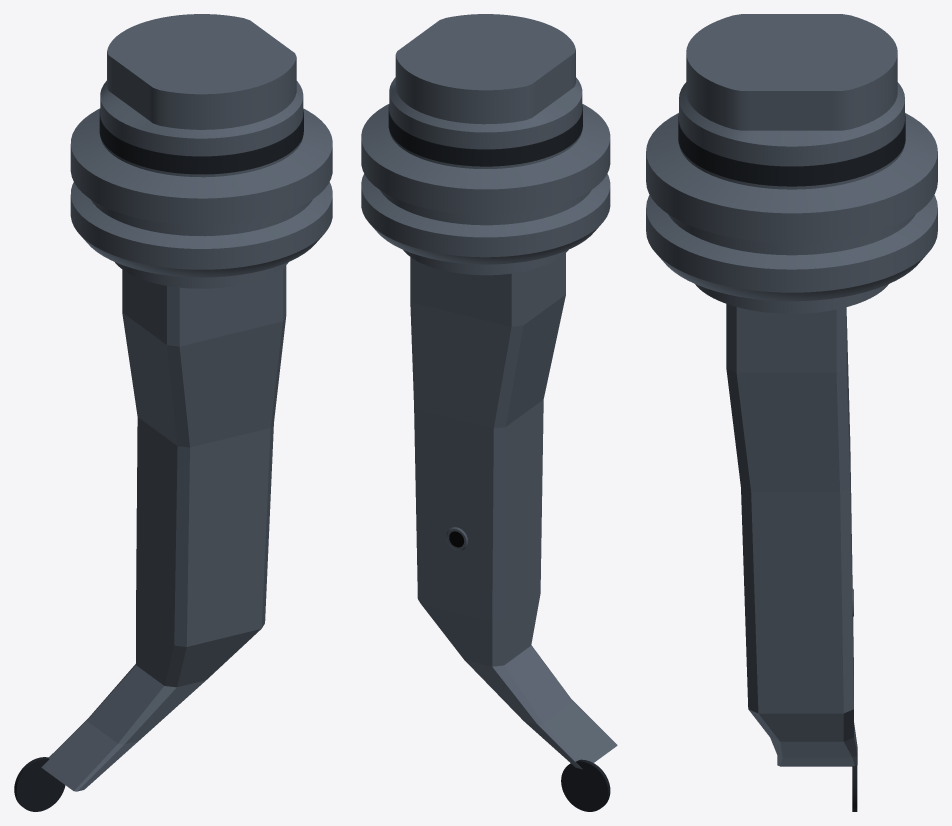
Rendered from wheel_cranked_20.obj.
3 renders of one model, left to right at view 1: azimuth 30°, elevation 25°; view 2: azimuth 150°, elevation 25°; view 3: azimuth 270°, elevation 25°, orthographic. The views are drawn at different scales.
Parts seen in each view (by area): view 1: wheel_cranked_20_faceted_blade.002, wheel_cranked_20_stepped_coupling.002, wheel_cranked_20_locking_collar.002, wheel_cranked_20_seat.005; view 2: wheel_cranked_20_faceted_blade.002, wheel_cranked_20_stepped_coupling.002, wheel_cranked_20_locking_collar.002, wheel_cranked_20_seat.005; view 3: wheel_cranked_20_stepped_coupling.002, wheel_cranked_20_faceted_blade.002, wheel_cranked_20_locking_collar.002.
Boxes of the visible parts, x1,y1,x2,y2 form: wheel_cranked_20_faceted_blade.002: (41, 265, 286, 791); wheel_cranked_20_stepped_coupling.002: (70, 14, 332, 288); wheel_cranked_20_locking_collar.002: (99, 109, 303, 174); wheel_cranked_20_seat.005: (14, 757, 65, 811); wheel_cranked_20_faceted_blade.002: (410, 253, 617, 769); wheel_cranked_20_stepped_coupling.002: (361, 14, 610, 275); wheel_cranked_20_locking_collar.002: (388, 105, 582, 166); wheel_cranked_20_seat.005: (561, 759, 610, 811); wheel_cranked_20_stepped_coupling.002: (646, 14, 937, 313); wheel_cranked_20_faceted_blade.002: (726, 304, 857, 766); wheel_cranked_20_locking_collar.002: (678, 114, 905, 186).
Bounding box in the file's own units: 95.72 × 251 × 80.
